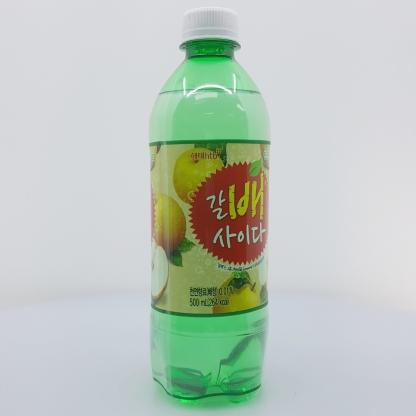-------500ML: (149, 6, 271, 406)
